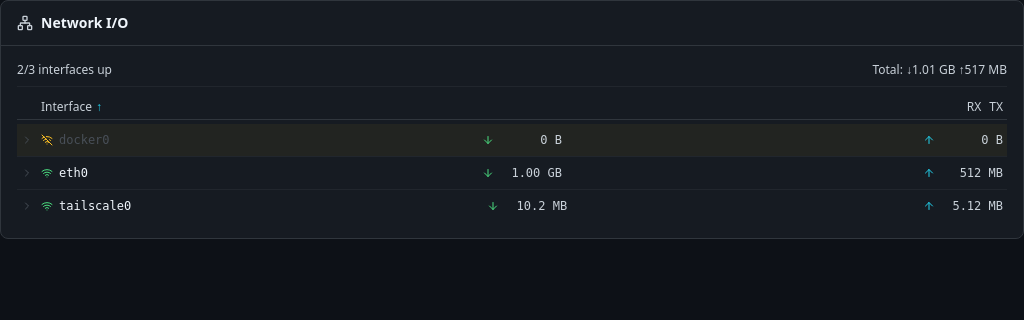
Scenario: NetworkIOWidget › Expandable details (US0171 AC4) › shows down status in expanded details for inactive interface
This screenshot has width=1024, height=320.
Click the button with test id "expand-docker0" at (84, 140), box [17,124,1007,156]
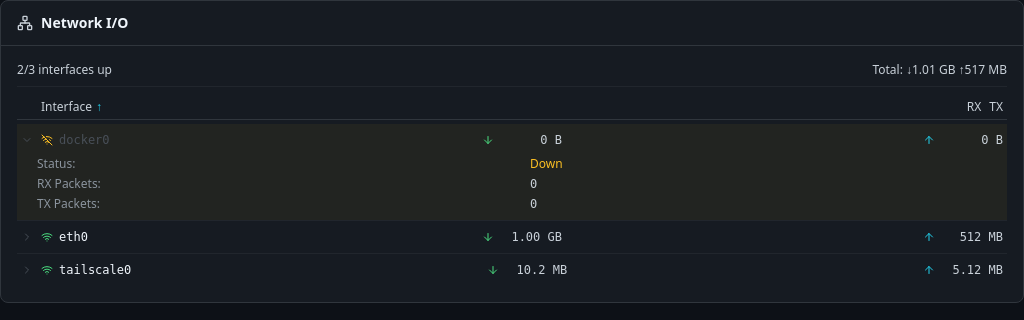
expect the element with test id "details-docker0" shows "Down": met, box [530,155,563,172]
